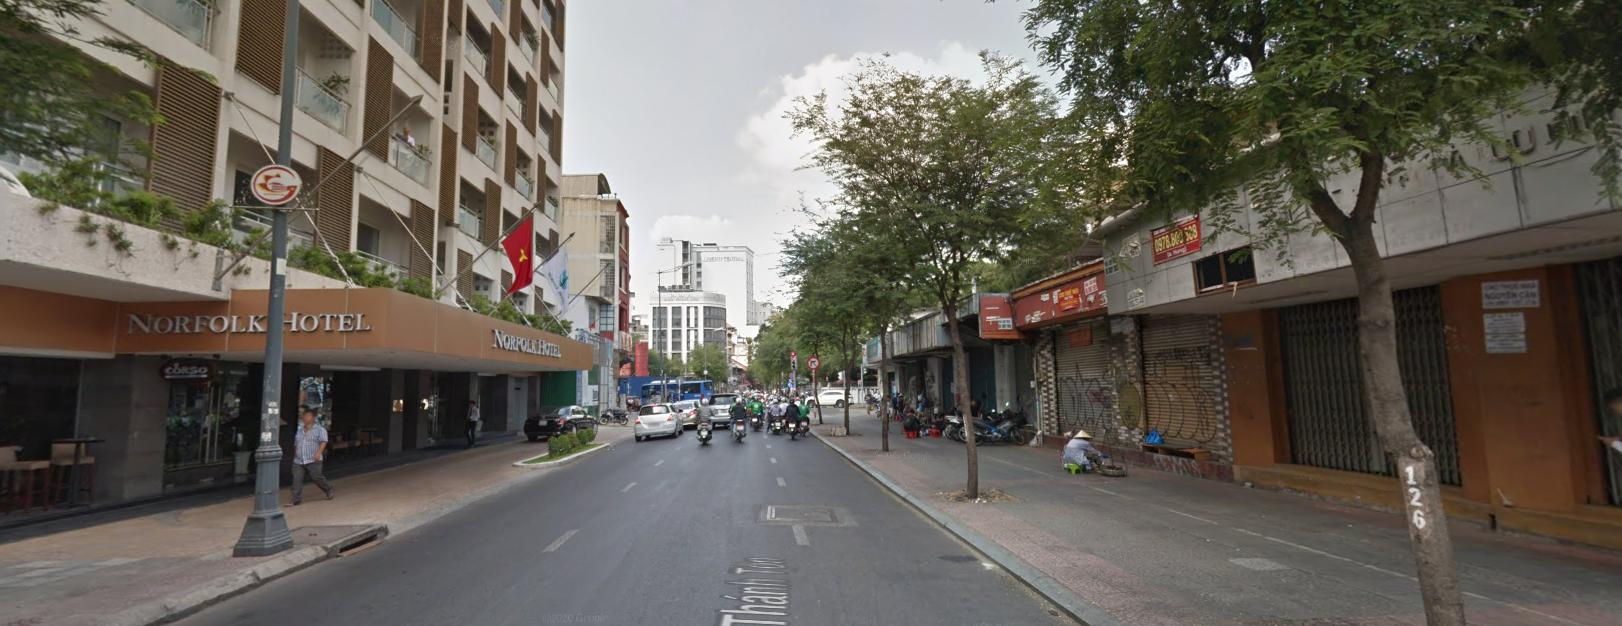Cam dung va do: (788, 371, 794, 378)
Cam re: (807, 354, 820, 367)
